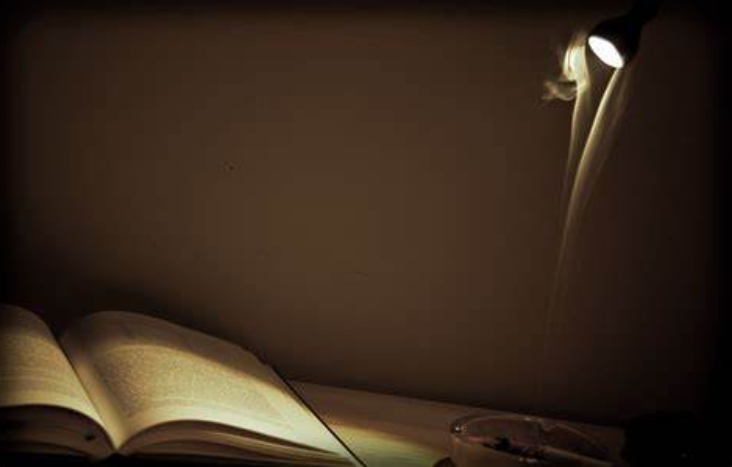book: (4, 296, 372, 464)
